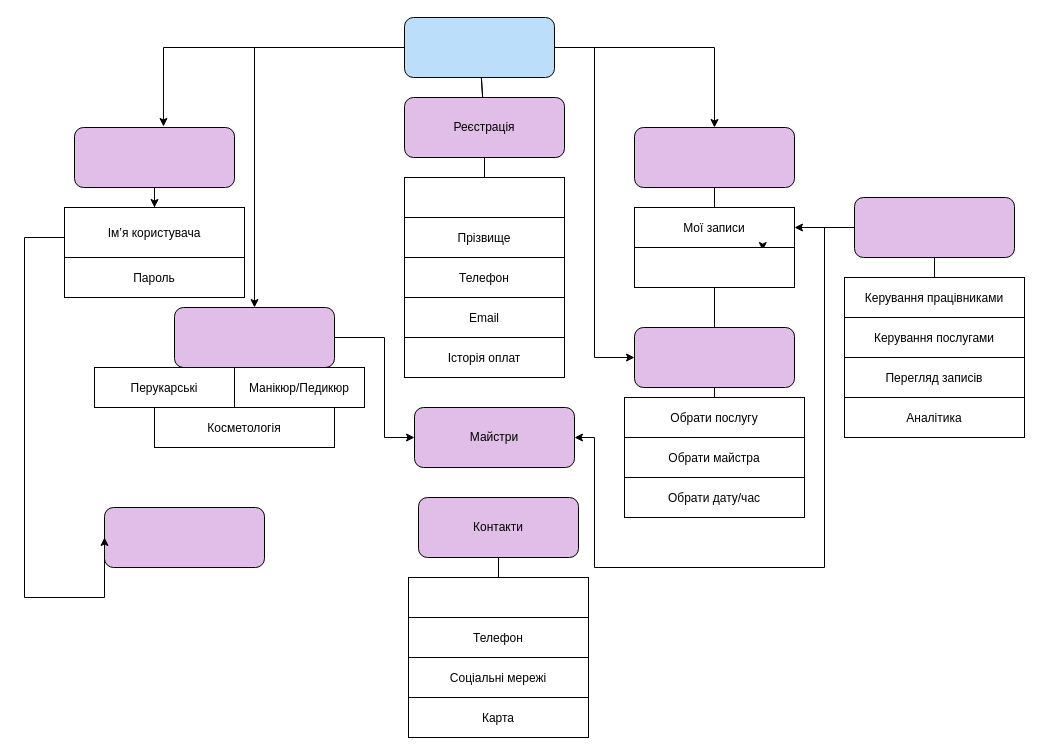
Some shapes in this 1042 by 755 pixel diagram are drawn without their labels. The centre of each missing label's shape, as x and y in pixels:
"Авторизація" goes at point (154, 157).
"Адмін-панель" goes at point (934, 227).
"Адреса" goes at point (498, 597).
"Відгуки" goes at point (184, 537).
"Головна сторінка" goes at point (479, 47).
"Залишити відгук" goes at point (714, 267).
"Запис на послугу" goes at point (714, 357).
"Особистий кабінет" goes at point (714, 157).
"Послуги" goes at point (254, 337).
"Ім’я" goes at point (484, 197).
